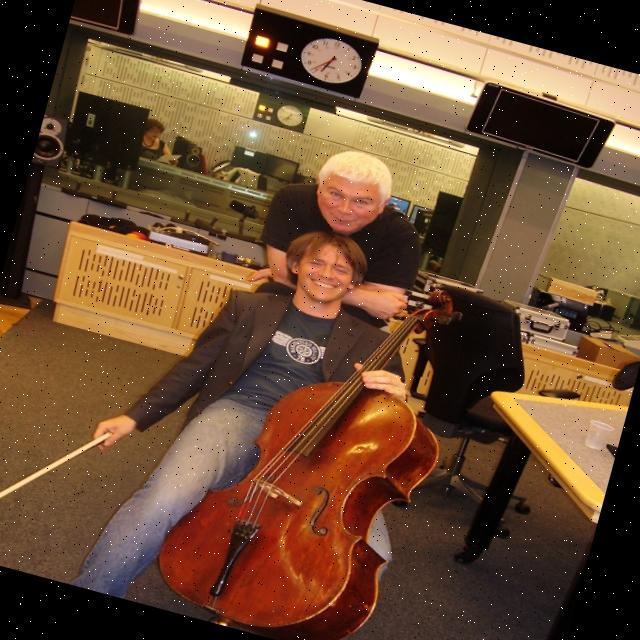cello: (142, 234, 485, 640)
